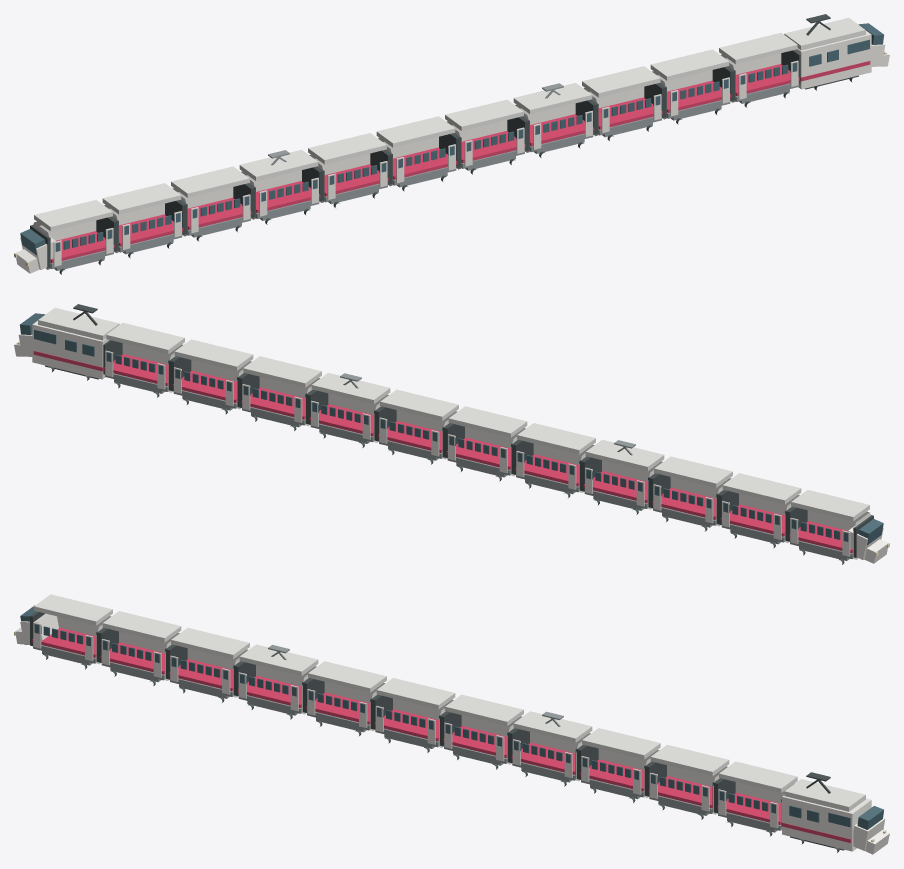
File: ice4.glb
The picture shows the model from 3 angles, top to bottom: view 1: azimuth 30°, elevation 25°; view 2: azimuth 150°, elevation 25°; view 3: azimuth 330°, elevation 25°; orthographic projection.
Visible parts, largest first — view 1: body_shell, roof, ice4_car_10_roof, ice4_car_6_roof, ice4_car_2_roof, ice4_car_1_roof, ice4_car_7_roof, ice4_car_9_roof, ice4_car_5_roof, ice4_car_11_roof, ice4_car_3_roof, ice4_car_4_roof (+23 smaller); view 2: body_shell, roof, ice4_car_10_roof, ice4_car_6_roof, ice4_car_2_roof, ice4_car_1_roof, ice4_car_7_roof, ice4_car_9_roof, ice4_car_5_roof, ice4_car_11_roof, ice4_car_3_roof, ice4_car_4_roof (+23 smaller); view 3: body_shell, roof, ice4_car_6_roof, ice4_car_10_roof, ice4_car_2_roof, ice4_car_9_roof, ice4_car_1_roof, ice4_car_3_roof, ice4_car_7_roof, ice4_car_5_roof, ice4_car_11_roof, ice4_car_4_roof (+24 smaller).
Part boxes in pixels (x1=…): body_shell: x1=794, y1=30, x2=871, y2=89; roof: x1=784, y1=17, x2=865, y2=50; ice4_car_10_roof: x1=102, y1=183, x2=181, y2=214; ice4_car_6_roof: x1=376, y1=116, x2=455, y2=147; ice4_car_2_roof: x1=650, y1=49, x2=729, y2=80; ice4_car_1_roof: x1=719, y1=33, x2=797, y2=64; ice4_car_7_roof: x1=308, y1=133, x2=386, y2=164; ice4_car_9_roof: x1=171, y1=166, x2=249, y2=197; ice4_car_5_roof: x1=445, y1=99, x2=523, y2=130; ice4_car_11_roof: x1=34, y1=200, x2=112, y2=231; ice4_car_3_roof: x1=582, y1=66, x2=660, y2=97; ice4_car_4_roof: x1=513, y1=83, x2=592, y2=114; body_shell: x1=32, y1=320, x2=109, y2=379; roof: x1=38, y1=307, x2=119, y2=340; ice4_car_10_roof: x1=722, y1=473, x2=801, y2=504; ice4_car_6_roof: x1=448, y1=406, x2=527, y2=437; ice4_car_2_roof: x1=174, y1=339, x2=253, y2=370; ice4_car_1_roof: x1=106, y1=323, x2=184, y2=354; ice4_car_7_roof: x1=517, y1=423, x2=595, y2=454; ice4_car_9_roof: x1=654, y1=456, x2=732, y2=487; ice4_car_5_roof: x1=380, y1=389, x2=458, y2=420; ice4_car_11_roof: x1=791, y1=490, x2=869, y2=521; ice4_car_3_roof: x1=243, y1=356, x2=321, y2=387; ice4_car_4_roof: x1=311, y1=373, x2=390, y2=404; body_shell: x1=782, y1=795, x2=871, y2=851; roof: x1=784, y1=779, x2=865, y2=811; ice4_car_6_roof: x1=376, y1=678, x2=455, y2=709; ice4_car_10_roof: x1=102, y1=611, x2=181, y2=642; ice4_car_2_roof: x1=650, y1=744, x2=729, y2=776; ice4_car_9_roof: x1=171, y1=627, x2=249, y2=659; ice4_car_1_roof: x1=719, y1=761, x2=797, y2=792; ice4_car_3_roof: x1=582, y1=728, x2=660, y2=759; ice4_car_7_roof: x1=308, y1=661, x2=386, y2=692; ice4_car_5_roof: x1=445, y1=694, x2=523, y2=725; ice4_car_11_roof: x1=34, y1=594, x2=112, y2=625; ice4_car_4_roof: x1=513, y1=711, x2=592, y2=742.
Bounding box in the file's own units: 18.62 × 1.32 × 0.791.
